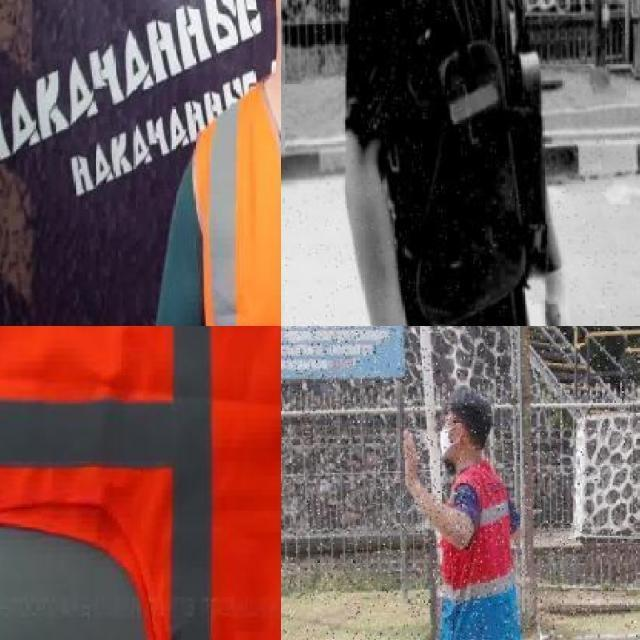apron: (534, 265, 577, 326)
